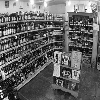beer: (23, 32, 29, 42)
